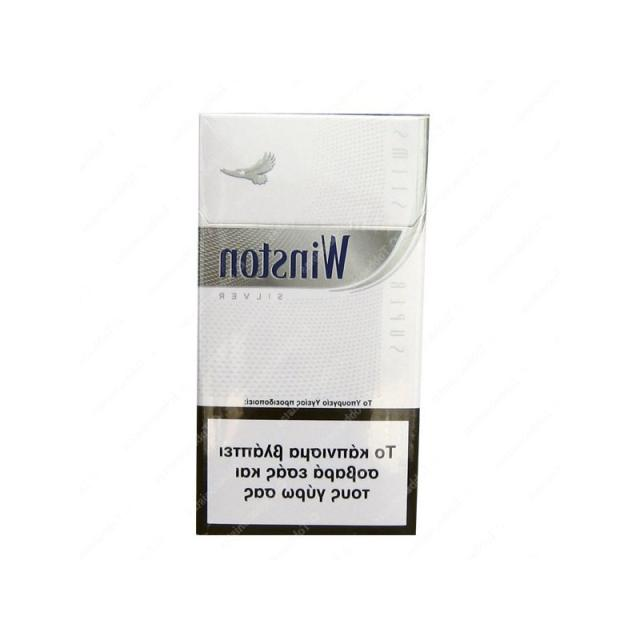winston: (189, 101, 435, 545)
